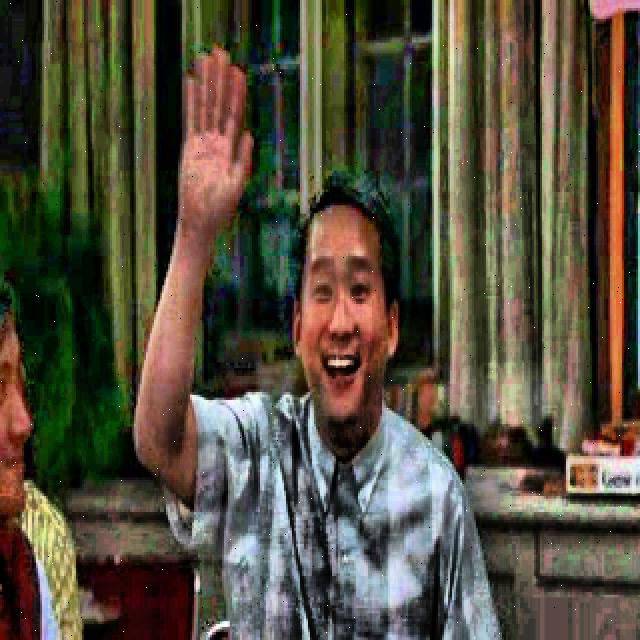T: (122, 31, 514, 640)
